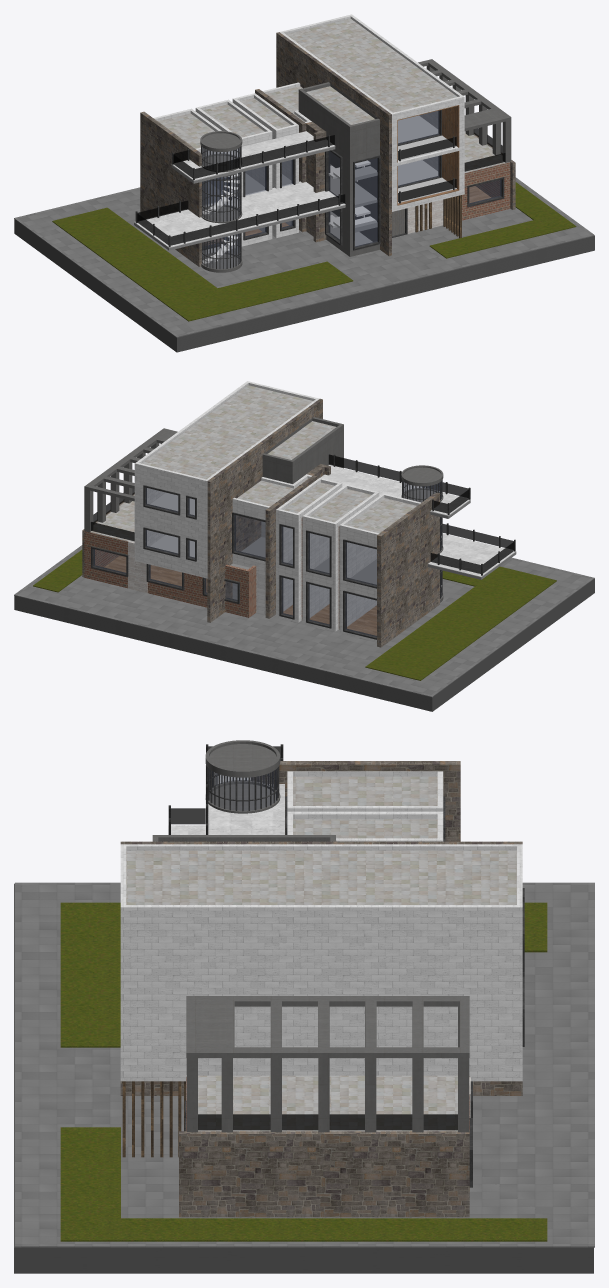
Rendered from house2-1k.glb.
3 renders of one model, top to bottom at view 1: azimuth 30°, elevation 25°; view 2: azimuth 150°, elevation 25°; view 3: azimuth 270°, elevation 25°, orthographic. The views are drawn at different scales.
Parts seen in each view (by area): view 1: Box014_21 - Default_0, Line035_22 - Default_0, Box013_Material #22_0, Rectangle003_02 - Default_0, Line009_Solid Glass_0, Box053_03 - Default_0, Box056_Metal_0, Box062, Line002_Wall Paint_0, Line036_22 - Default_0, Shape001_15 - Glossy Plastic_0, Box054_03 - Default_0 (+39 smaller); view 2: Box014_21 - Default_0, Box013_Material #22_0, Line035_22 - Default_0, Box056_Metal_0, Line002_Wall Paint_0, Rectangle003_02 - Default_0, Box062, Line001_11 - Default_0, Line007_06 - Default_0, Line008_06 - Default_0, Line006_06 - Default_0, Line009_Solid Glass_0 (+32 smaller); view 3: Box014_21 - Default_0, Line002_Wall Paint_0, Box063, Rectangle003_02 - Default_0, Line036_22 - Default_0, Box013_Material #22_0, Rectangle024_02 - Default_0, Rectangle021_Solid Glass_0, Line035_22 - Default_0, Rectangle008_02 - Default_0, Line039, Box056_Metal_0 (+17 smaller).
Boxes of the visible parts, x1=… form: Box014_21 - Default_0: x1=14, y1=177, x2=594, y2=337; Line035_22 - Default_0: x1=52, y1=207, x2=353, y2=321; Box013_Material #22_0: x1=14, y1=219, x2=594, y2=352; Rectangle003_02 - Default_0: x1=286, y1=18, x2=457, y2=112; Line009_Solid Glass_0: x1=298, y1=82, x2=379, y2=256; Box053_03 - Default_0: x1=134, y1=181, x2=345, y2=247; Box056_Metal_0: x1=140, y1=111, x2=201, y2=266; Box062: x1=276, y1=32, x2=391, y2=256; Line002_Wall Paint_0: x1=280, y1=14, x2=464, y2=211; Line036_22 - Default_0: x1=429, y1=182, x2=576, y2=258; Shape001_15 - Glossy Plastic_0: x1=201, y1=146, x2=241, y2=269; Box054_03 - Default_0: x1=171, y1=131, x2=335, y2=180; Box014_21 - Default_0: x1=14, y1=545, x2=594, y2=697; Box013_Material #22_0: x1=14, y1=578, x2=594, y2=711; Line035_22 - Default_0: x1=365, y1=566, x2=556, y2=680; Box056_Metal_0: x1=377, y1=492, x2=439, y2=647; Line002_Wall Paint_0: x1=134, y1=381, x2=319, y2=578; Rectangle003_02 - Default_0: x1=142, y1=385, x2=312, y2=479; Box062: x1=207, y1=398, x2=322, y2=622; Line001_11 - Default_0: x1=84, y1=531, x2=256, y2=617; Line007_06 - Default_0: x1=302, y1=484, x2=379, y2=631; Line008_06 - Default_0: x1=339, y1=493, x2=420, y2=641; Line006_06 - Default_0: x1=276, y1=478, x2=342, y2=622; Line009_Solid Glass_0: x1=262, y1=417, x2=343, y2=483; Box014_21 - Default_0: x1=15, y1=882, x2=594, y2=1247; Line002_Wall Paint_0: x1=120, y1=844, x2=522, y2=1081; Box063: x1=179, y1=1131, x2=469, y2=1217; Rectangle003_02 - Default_0: x1=126, y1=850, x2=516, y2=904; Line036_22 - Default_0: x1=60, y1=1127, x2=547, y2=1241; Box013_Material #22_0: x1=14, y1=883, x2=593, y2=1273; Rectangle024_02 - Default_0: x1=198, y1=1075, x2=457, y2=1131; Rectangle021_Solid Glass_0: x1=186, y1=996, x2=469, y2=1057; Line035_22 - Default_0: x1=60, y1=902, x2=547, y2=1047; Rectangle008_02 - Default_0: x1=293, y1=776, x2=437, y2=805; Line039: x1=198, y1=1114, x2=457, y2=1130; Box056_Metal_0: x1=250, y1=761, x2=460, y2=841.
Bounding box in the file's own units: 30.4 × 10.86 × 20.51.
22 materials, 16 textured.
